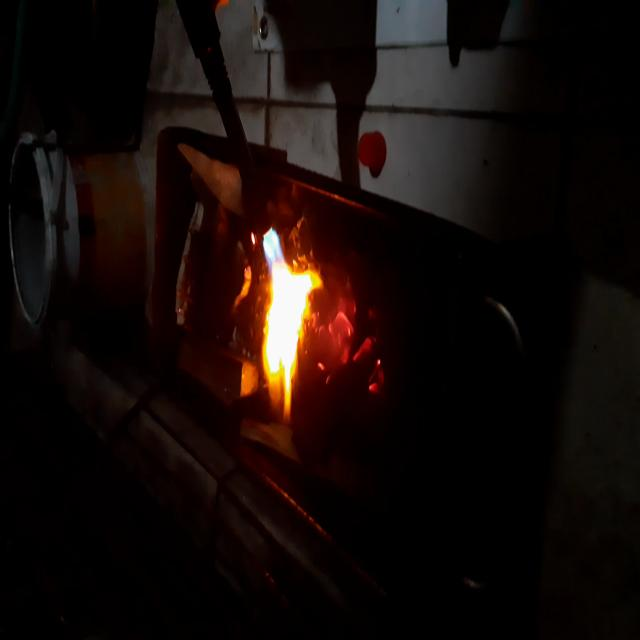Fire: (248, 214, 322, 426), (330, 274, 392, 416)
